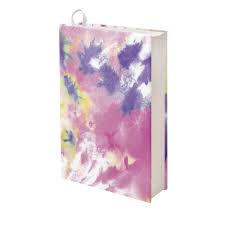book: (59, 22, 169, 205)
